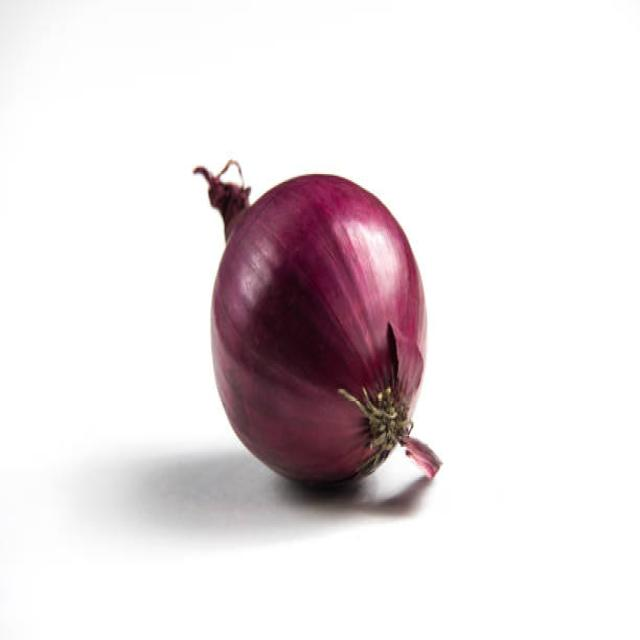onion: (195, 157, 432, 508)
